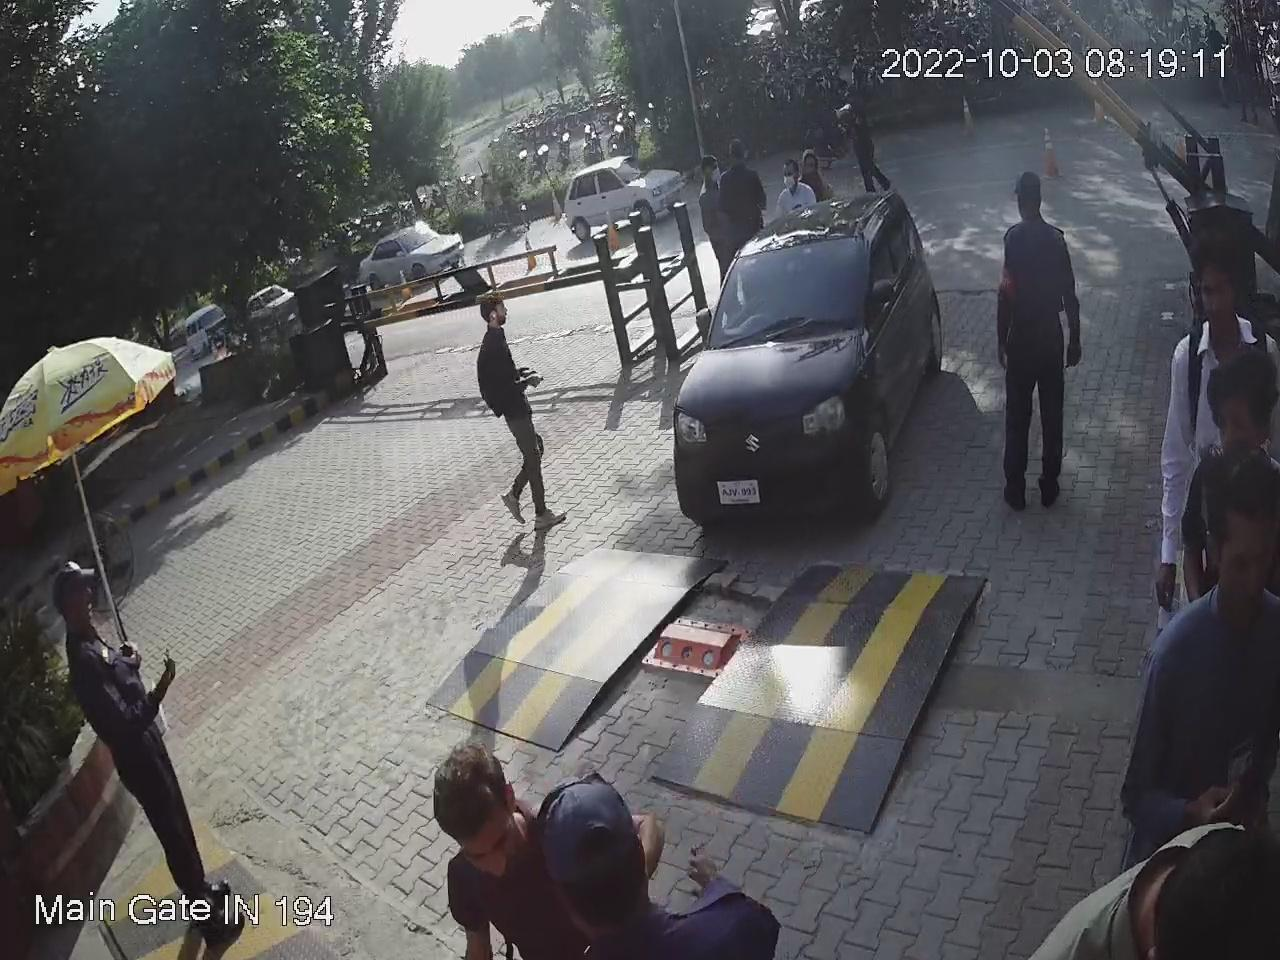windshield: (700, 235, 871, 348)
